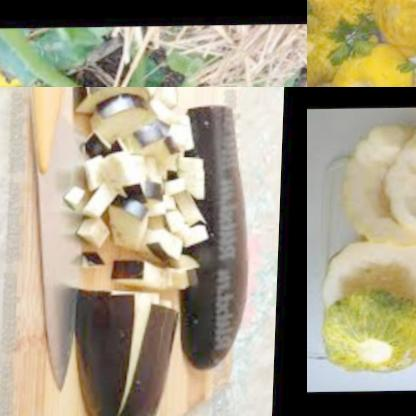eggplant: (56, 87, 215, 300), (169, 87, 273, 377), (53, 256, 183, 416)
squash-patisson: (343, 124, 416, 254), (316, 293, 416, 378), (321, 237, 416, 324), (329, 40, 416, 87), (307, 17, 357, 87), (390, 119, 416, 249), (371, 0, 416, 57), (307, 0, 379, 27), (0, 44, 39, 87)
